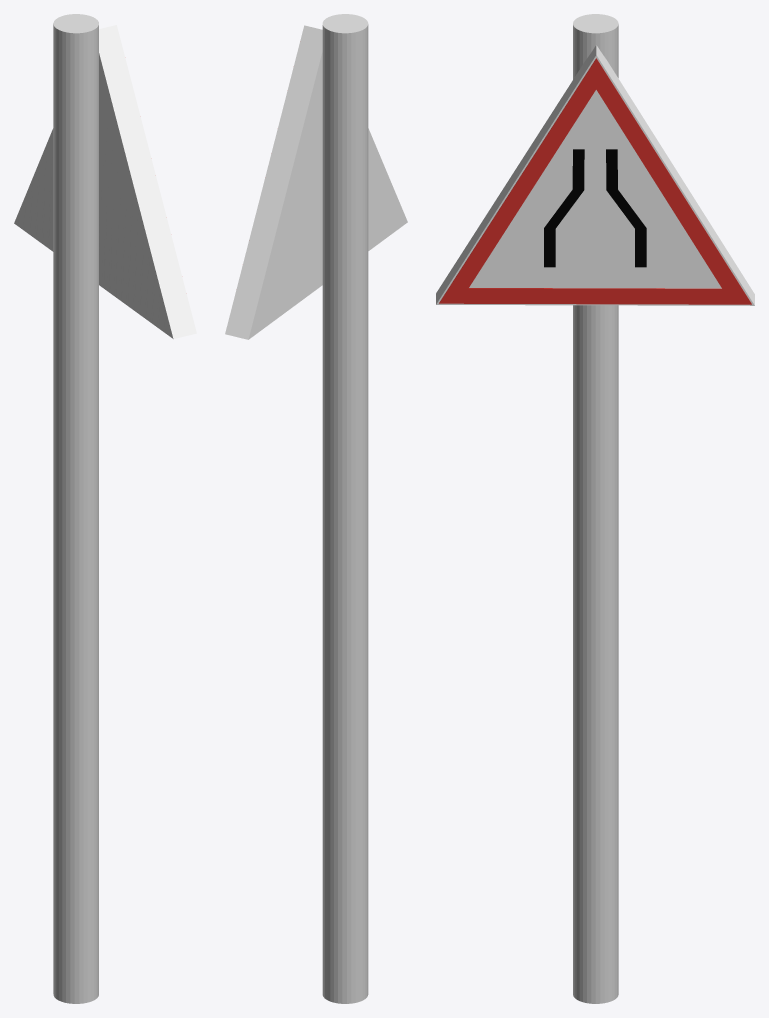
File: SignRoadNarrowsOnBothSides.fbx
3 views of the same model, side by side, from view 1: azimuth 30°, elevation 25°; view 2: azimuth 150°, elevation 25°; view 3: azimuth 270°, elevation 25° (orthographic).
Parts seen in each view (by area): view 1: Cylinder.020, SignTriangleUp.004; view 2: Cylinder.020, SignTriangleUp.004; view 3: Cylinder.020, SignTriangleUp.004, SignTriangleUp.003, Cube.008, Cube.007.
Part boxes in pixels (x1,y1,x2,y2): Cylinder.020: [53, 14, 98, 1003]; SignTriangleUp.004: [14, 25, 196, 338]; Cylinder.020: [322, 14, 368, 1003]; SignTriangleUp.004: [225, 25, 407, 339]; Cylinder.020: [573, 14, 618, 1003]; SignTriangleUp.004: [436, 45, 754, 305]; SignTriangleUp.003: [439, 58, 751, 304]; Cube.008: [544, 149, 584, 267]; Cube.007: [606, 149, 646, 267].
Size of the model in its own units: 112 by 1671 by 498.
